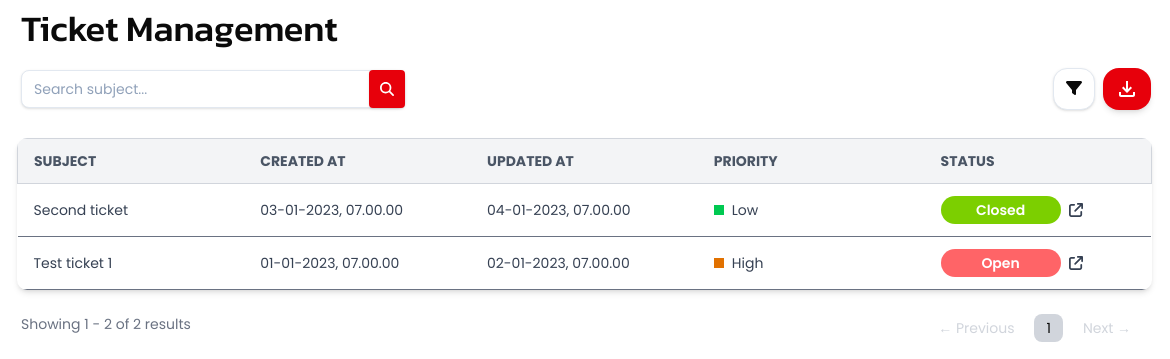
it: TicketManagement › filters tickets by search input
The image size is (1170, 359).
Type "second" into the field with placeholder "Search subject..." at (213, 89), box [21,70,405,108]
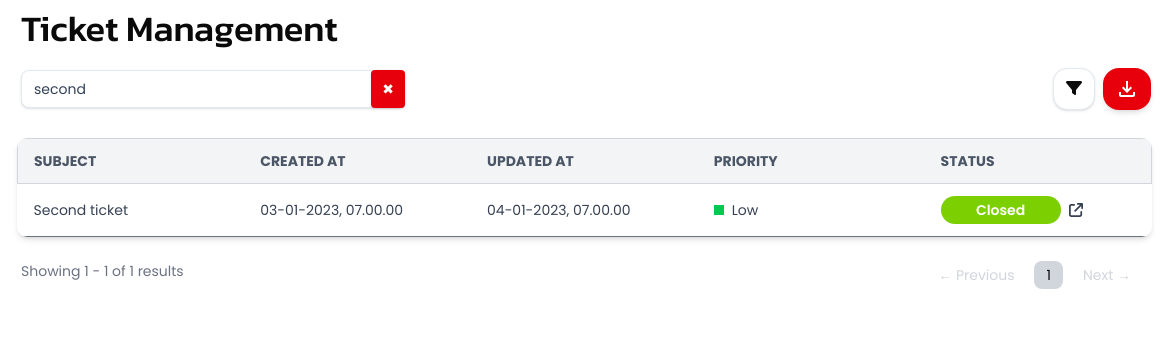
Expected: the text "Second ticket" is shown, [18,184,244,236]
Result: the text "Test ticket 1" is gone
Clear search
Clear the field with placeholder "Search subject..." at (213, 89), box [21,70,405,108]
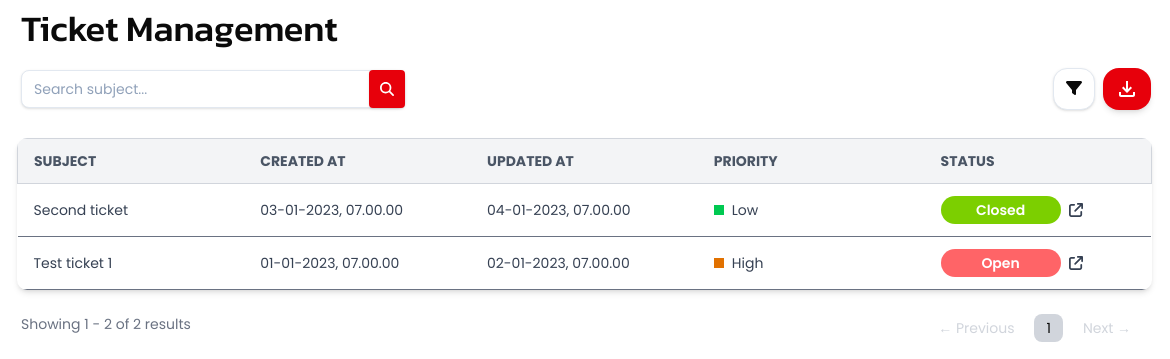
Expected: the text "Second ticket" is shown, [18,184,244,236]
Result: the text "Test ticket 1" is shown at [18,236,244,290]
